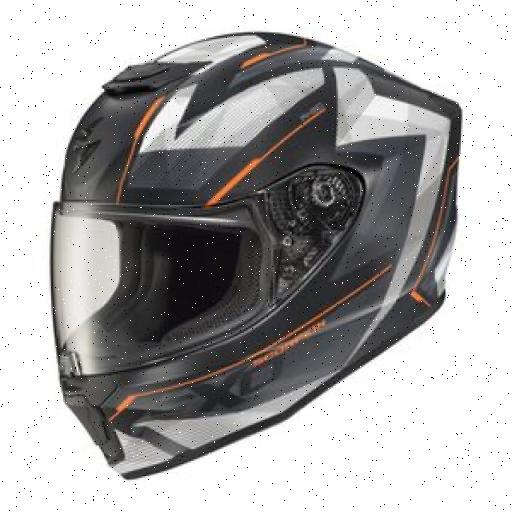Helmet: (58, 38, 482, 490)
